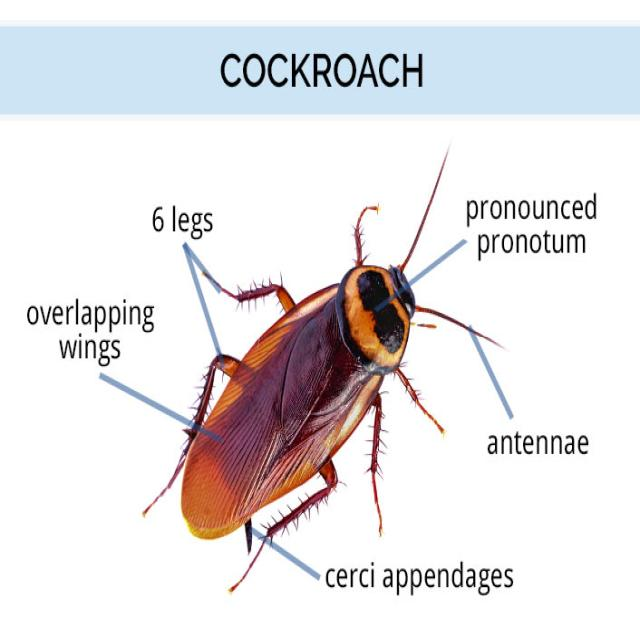Cockroach: (105, 173, 491, 594)
